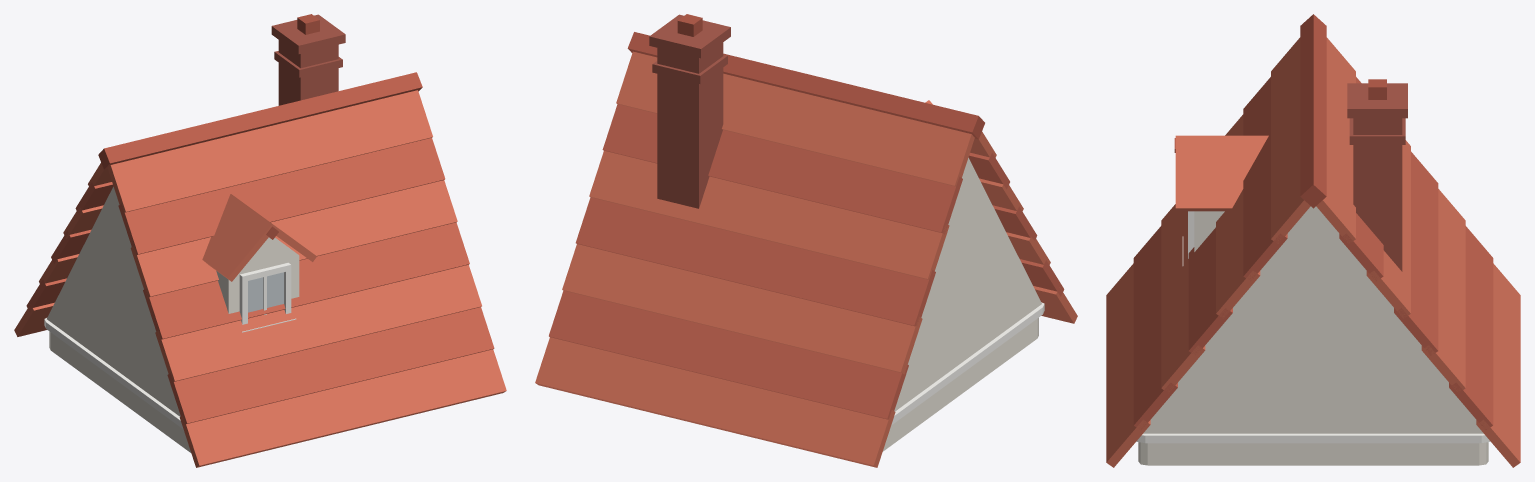
The model's file is townhouse_gabled_roof.glb.
The picture shows the model from 3 angles, left to right: view 1: azimuth 30°, elevation 25°; view 2: azimuth 150°, elevation 25°; view 3: azimuth 270°, elevation 25°; orthographic projection. The views are drawn at different scales.
Parts seen in each view (by area): view 1: front_tile_row_6, front_tile_row_0, front_tile_row_1, front_tile_row_2, front_tile_row_5, gable_body, front_tile_row_3, front_tile_row_4, ridge_cap, dormer_roof_left, roof_base_band, chimney_stack (+12 smaller); view 2: back_tile_row_0, back_tile_row_2, back_tile_row_3, back_tile_row_1, back_tile_row_6, back_tile_row_4, gable_body, back_tile_row_5, chimney_stack, ridge_cap, roof_base_band, chimney_cap (+8 smaller); view 3: gable_body, roof_base_band, dormer_roof_right, chimney_stack, front_tile_row_6, front_tile_row_1, back_tile_row_1, front_tile_row_0, back_tile_row_0, back_tile_row_3, back_tile_row_2, front_tile_row_2 (+11 smaller).
Boxes of the visible parts, box(x1,y1,x2,y2) form: front_tile_row_6: box(107, 90, 432, 212); front_tile_row_0: box(179, 349, 506, 467); front_tile_row_1: box(167, 307, 494, 424); front_tile_row_2: box(155, 264, 481, 381); front_tile_row_5: box(118, 138, 445, 254); gable_body: box(47, 186, 180, 416); front_tile_row_3: box(143, 222, 469, 339); front_tile_row_4: box(130, 180, 457, 298); ridge_cap: box(98, 72, 422, 169); dormer_roof_left: box(202, 194, 275, 281); roof_base_band: box(49, 331, 190, 452); chimney_stack: box(278, 40, 338, 105); back_tile_row_0: box(535, 337, 895, 467); back_tile_row_2: box(562, 244, 922, 374); back_tile_row_3: box(575, 197, 935, 326); back_tile_row_1: box(549, 290, 908, 419); back_tile_row_6: box(616, 51, 974, 186); back_tile_row_4: box(589, 151, 949, 279); gable_body: box(894, 157, 1041, 411); back_tile_row_5: box(602, 104, 962, 234); chimney_stack: box(657, 42, 723, 208); ridge_cap: box(627, 32, 984, 139); roof_base_band: box(882, 318, 1038, 451); chimney_cap: box(649, 14, 730, 58); gable_body: box(1143, 206, 1483, 433); roof_base_band: box(1138, 442, 1488, 465); dormer_roof_right: box(1175, 135, 1268, 211); chimney_stack: box(1353, 118, 1402, 271); front_tile_row_6: box(1271, 37, 1310, 243); front_tile_row_1: box(1133, 226, 1177, 430); back_tile_row_1: box(1449, 226, 1493, 429); front_tile_row_0: box(1106, 263, 1150, 467); back_tile_row_0: box(1476, 263, 1520, 467); back_tile_row_3: box(1394, 151, 1438, 355); back_tile_row_2: box(1421, 189, 1465, 391); front_tile_row_2: box(1161, 204, 1205, 393).
Bounding box in the file's own units: 3.46 × 3.31 × 3.55.
